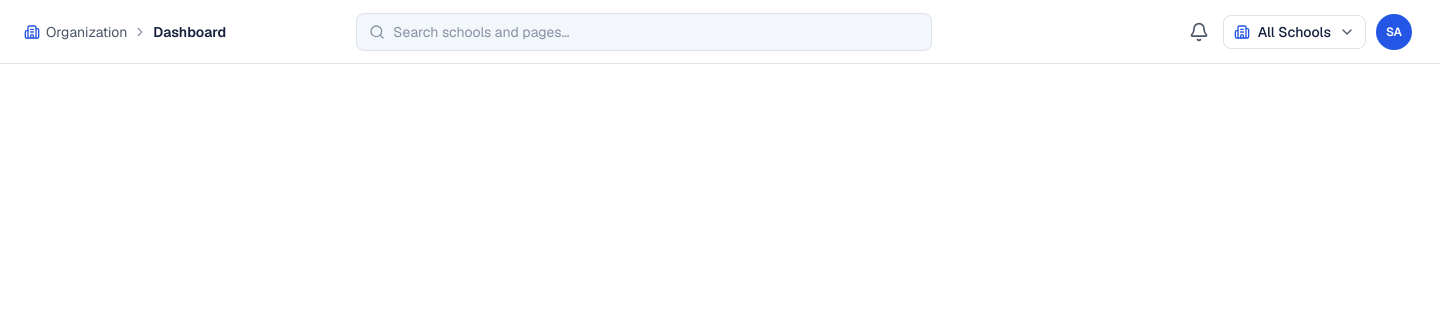
Organization school selector › lists All Schools first, then every authorized school with its real counts and type
This screenshot has width=1440, height=326.
Click the button with aria-label "Switch school context": [1294, 32] box [1223,14,1366,48]
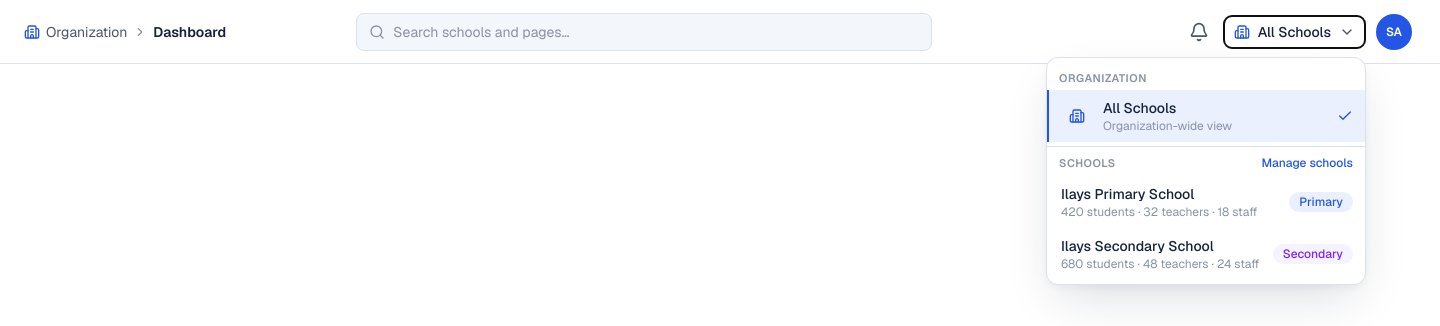
Expected: the menu item "All Schools Organization-wide view" is shown, [1047,90,1365,142]
Expected: the menu item that starts with "Ilays Primary School" is shown, [1047,176,1365,228]
Expected: the menu item that starts with "Ilays Primary School" shows "420 students · 32 teachers · 18 staff", [1047,176,1365,228]
